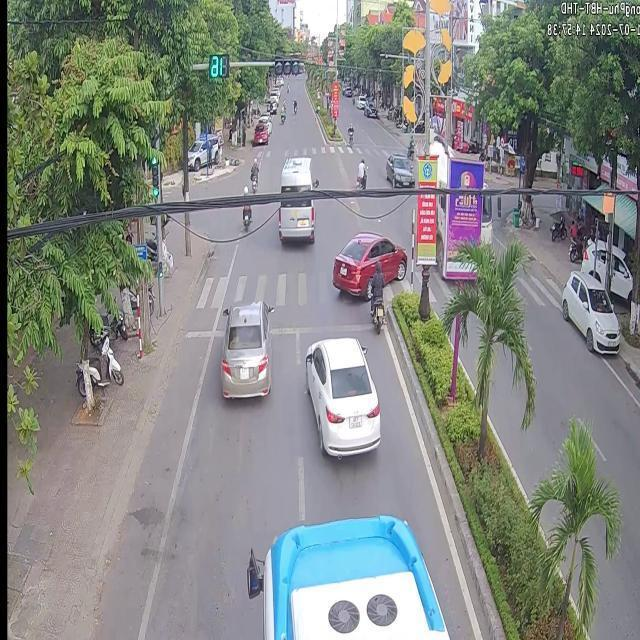car: (269, 514, 449, 638), (304, 336, 379, 456), (219, 298, 273, 396), (330, 231, 406, 298), (390, 154, 412, 183)
green_light: (272, 56, 298, 74), (149, 160, 157, 187), (149, 134, 158, 147)
motobike: (367, 258, 383, 337), (239, 183, 250, 232), (356, 157, 365, 186), (248, 163, 257, 185)
stop_line: (182, 319, 372, 338)
